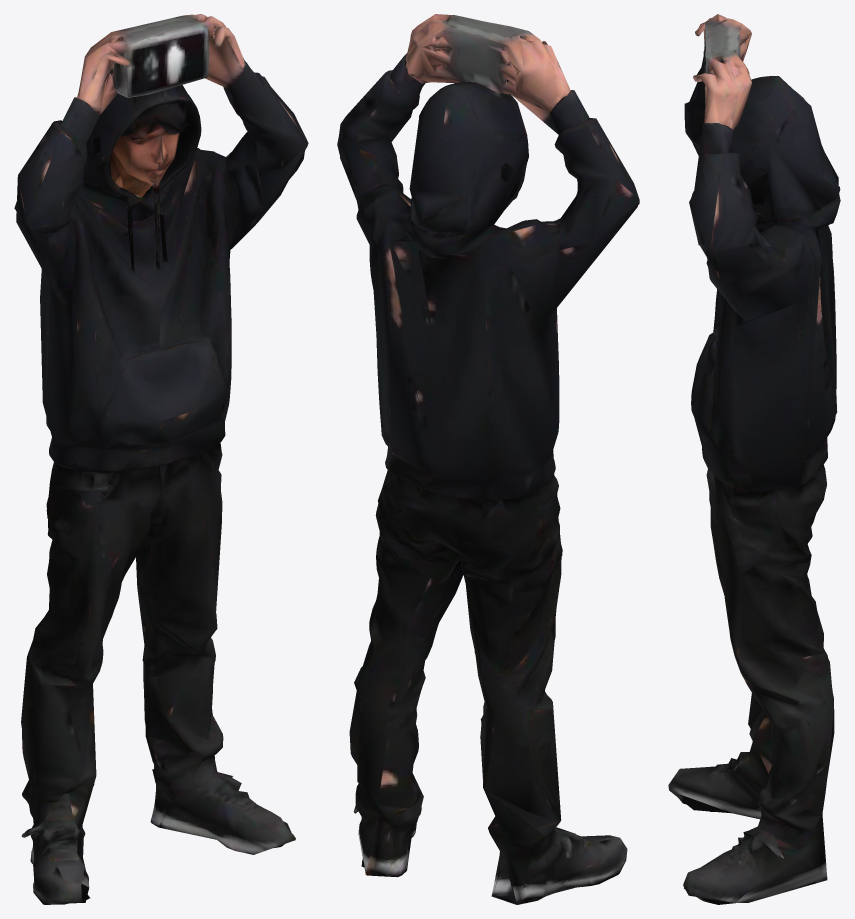
File: fan-phone-s2-lo.glb
3 renders of one model, left to right at view 1: azimuth 30°, elevation 25°; view 2: azimuth 150°, elevation 25°; view 3: azimuth 270°, elevation 25°, orthographic. The views are drawn at different scales.
Parts seen in each view (by area): view 1: geometry_0; view 2: geometry_0; view 3: geometry_0.
Part boxes in pixels (bbox=[...]): geometry_0: bbox=[14, 14, 308, 904]; geometry_0: bbox=[337, 14, 639, 904]; geometry_0: bbox=[668, 14, 840, 904].
Size of the model in its own units: 0.3615 by 1 by 0.1928.
Materials: 1 (1 with a texture image).
